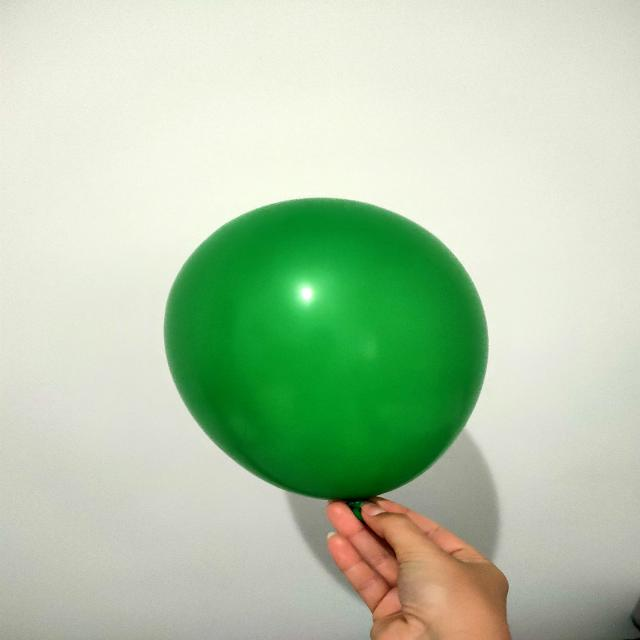green: (166, 199, 490, 505)
